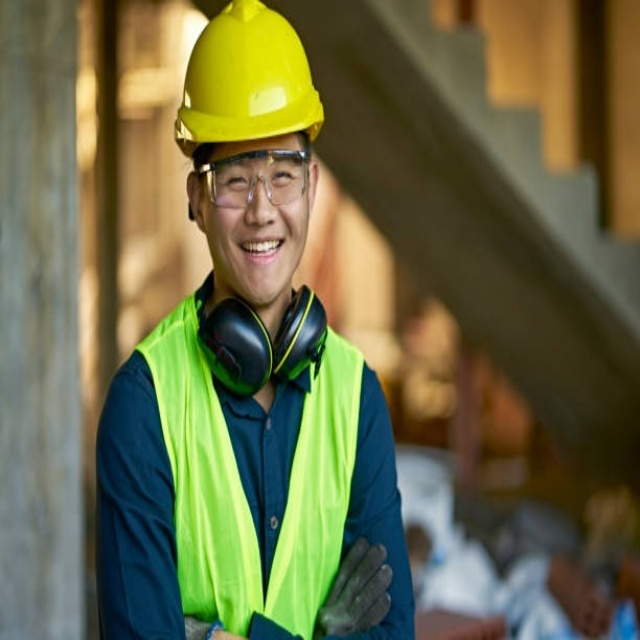Gafas: (195, 148, 313, 209)
Guantes: (315, 535, 393, 635)
Sin_mascara: (231, 226, 292, 289)
